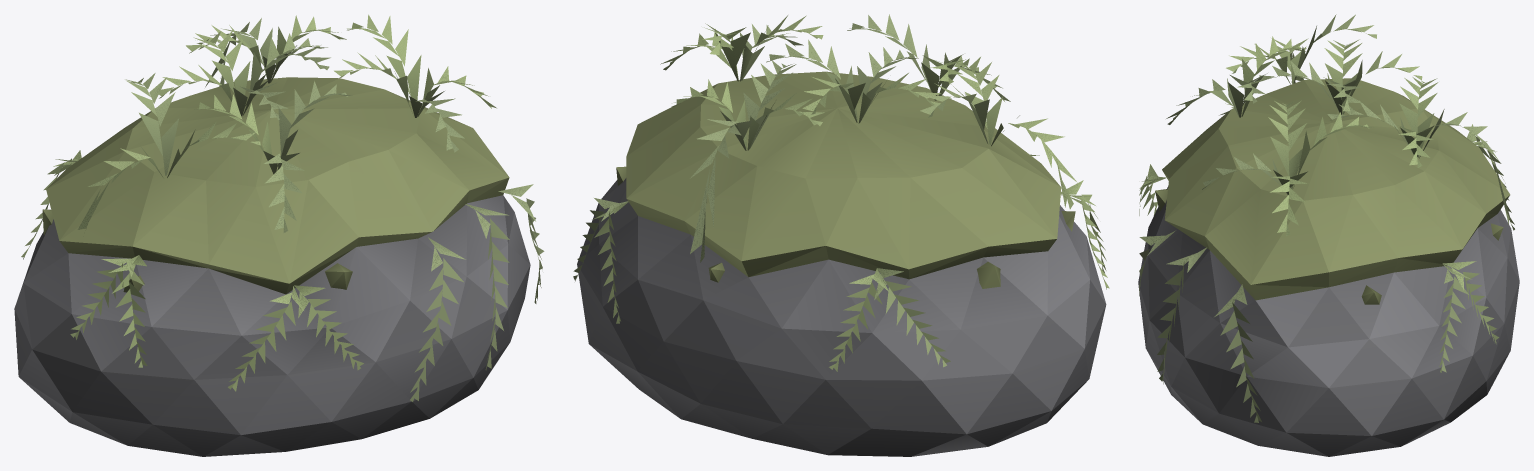
File: fernrock.glb
3 renders of one model, left to right at view 1: azimuth 30°, elevation 25°; view 2: azimuth 150°, elevation 25°; view 3: azimuth 270°, elevation 25°, orthographic. The views are drawn at different scales.
Parts seen in each view (by area): view 1: fernrock; view 2: fernrock; view 3: fernrock.
Part boxes in pixels (<box>): fernrock: <box>14,14,544,456</box>; fernrock: <box>573,14,1109,456</box>; fernrock: <box>1138,14,1519,456</box>.
Size of the model in its own units: 4 by 2.55 by 3.
